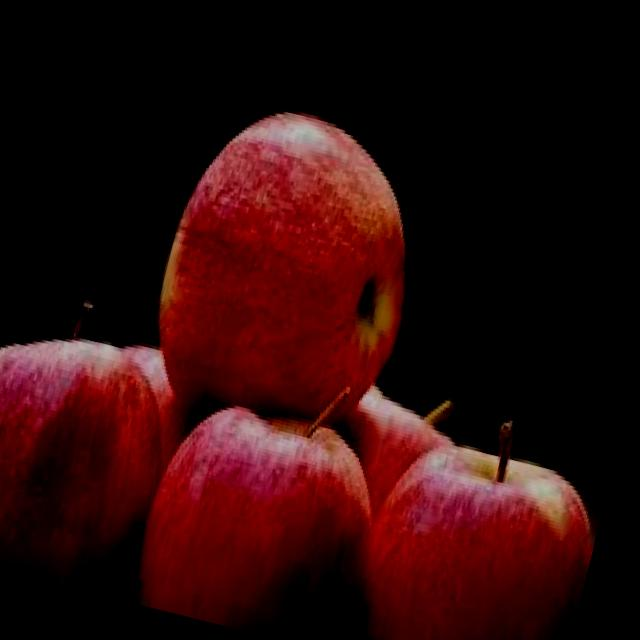Apple: (128, 84, 446, 463), (124, 342, 407, 640), (339, 389, 617, 640), (0, 308, 189, 598)
